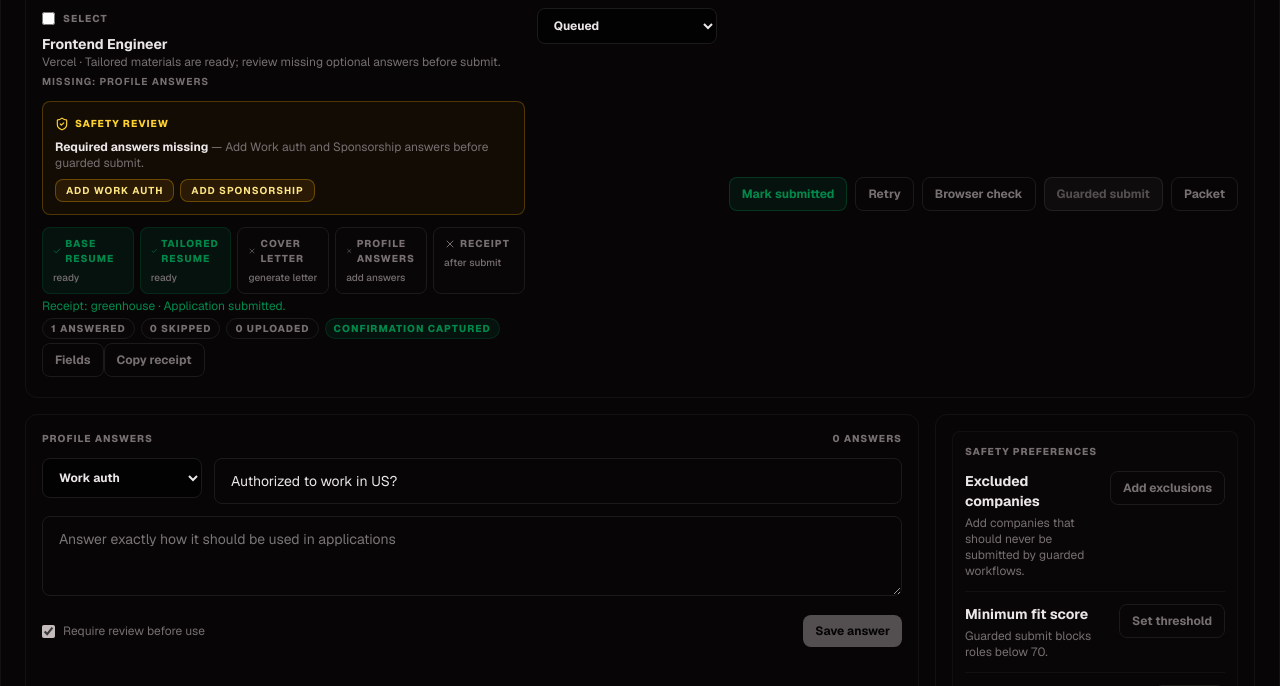
Scenario: ApplyAgentCommandCenter › copies a portable receipt audit summary
This screenshot has width=1280, height=686.
(page scrolled)
Click the button "Copy receipt" at (154, 360), box [104,343,205,377]
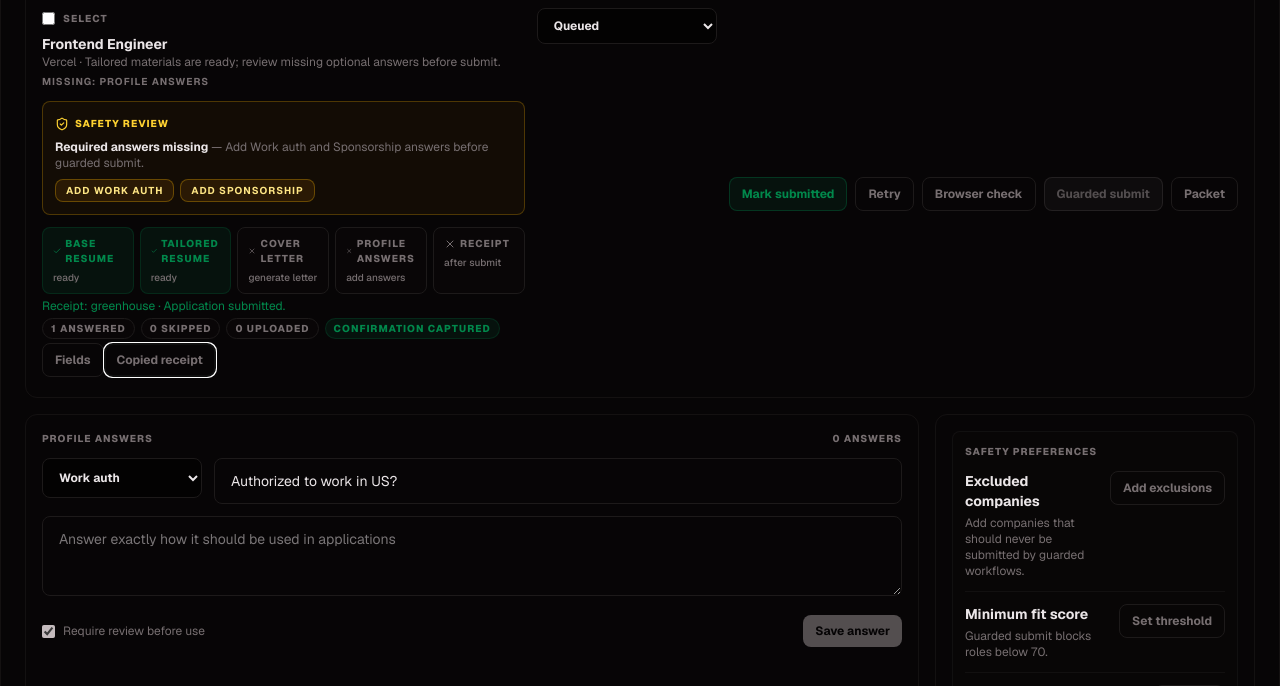
Expected: the button "Copied receipt" is shown, [104,343,216,377]
